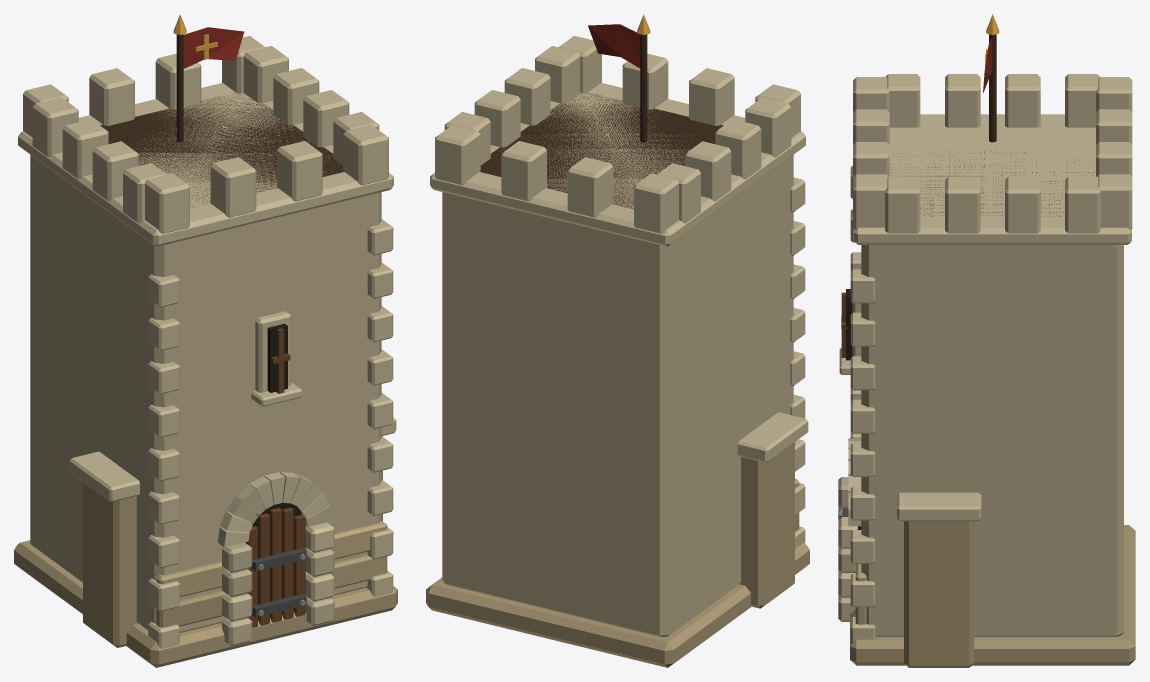
Rendered from tower.glb.
3 views of the same model, side by side, from view 1: azimuth 30°, elevation 25°; view 2: azimuth 150°, elevation 25°; view 3: azimuth 270°, elevation 25° (orthographic).
Parts seen in each view (by area): view 1: Stone, Timber, Metal, Fabric; view 2: Stone, Timber, Fabric; view 3: Stone, Timber.
Boxes of the visible parts, left/top/right/bottom form: Stone: left=14, top=35, right=397, bottom=667; Timber: left=100, top=34, right=343, bottom=627; Metal: left=173, top=14, right=306, bottom=617; Fabric: left=183, top=27, right=244, bottom=68; Stone: left=426, top=35, right=809, bottom=667; Timber: left=480, top=34, right=723, bottom=209; Fabric: left=588, top=24, right=640, bottom=68; Stone: left=838, top=74, right=1135, bottom=667; Timber: left=841, top=34, right=1093, bottom=357.
Size of the model in its own units: 4.01 by 7.76 by 3.6.
